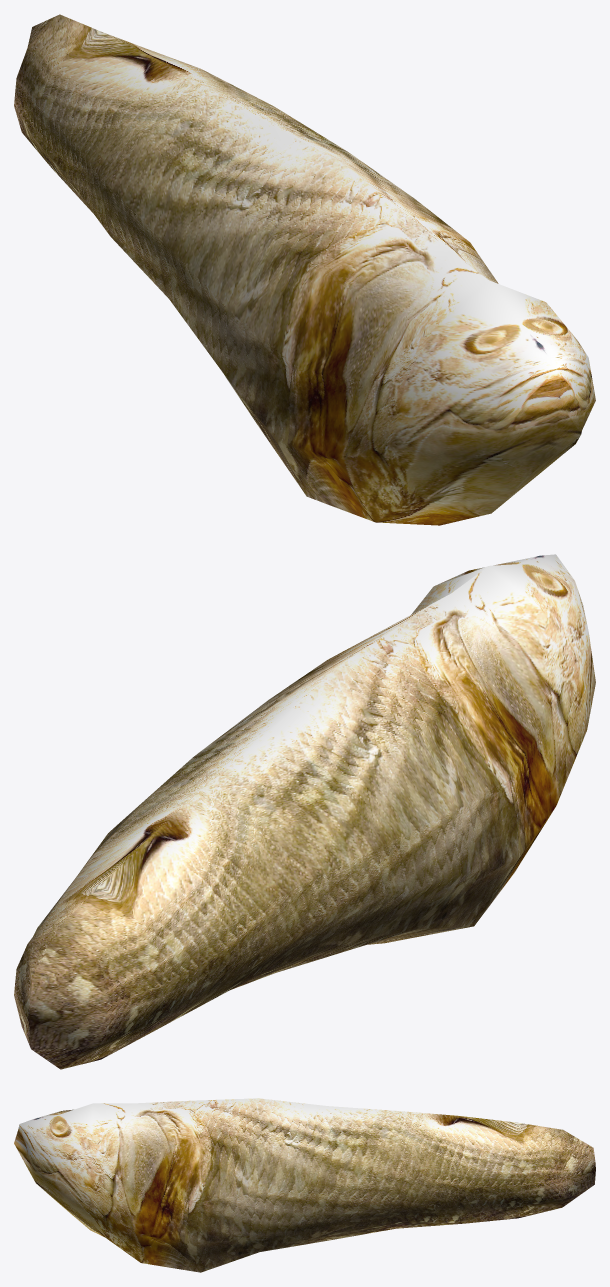
Rendered from fisch03.fbx.
3 renders of one model, top to bottom at view 1: azimuth 30°, elevation 25°; view 2: azimuth 150°, elevation 25°; view 3: azimuth 270°, elevation 25°, orthographic. The views are drawn at different scales.
Parts seen in each view (by area): view 1: Fisch3; view 2: Fisch3; view 3: Fisch3.
Part boxes in pixels (bbox=[...]): Fisch3: bbox=[14, 14, 595, 525]; Fisch3: bbox=[14, 554, 595, 1069]; Fisch3: bbox=[14, 1098, 595, 1272].
Size of the model in its own units: 122 by 150 by 466.
